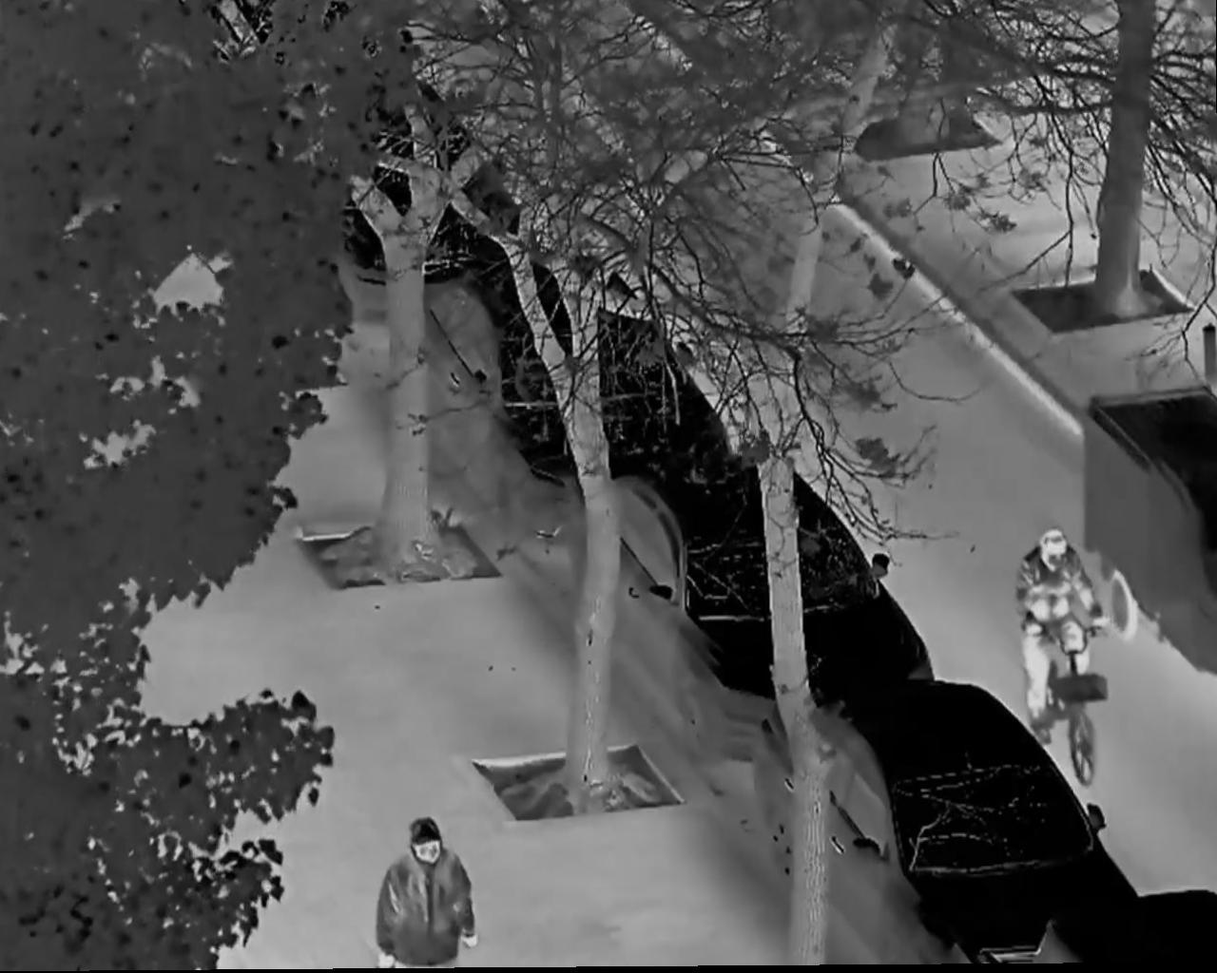person: (1018, 529, 1096, 749), (375, 821, 486, 973)
